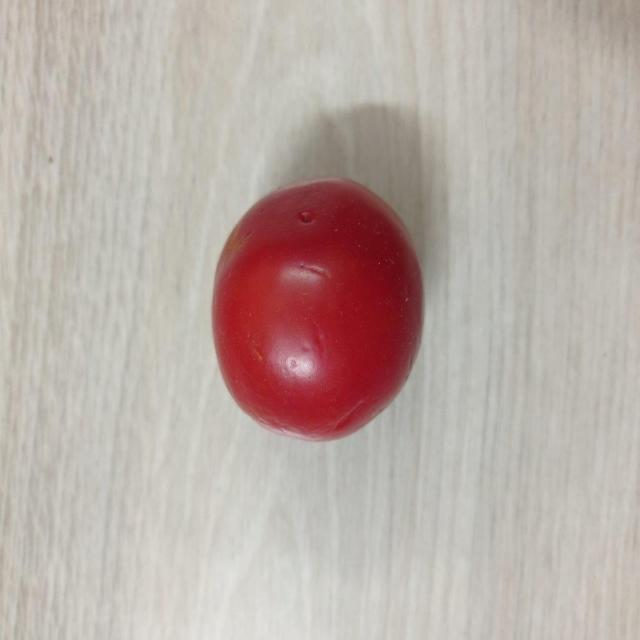Tomato: (212, 176, 426, 443)
